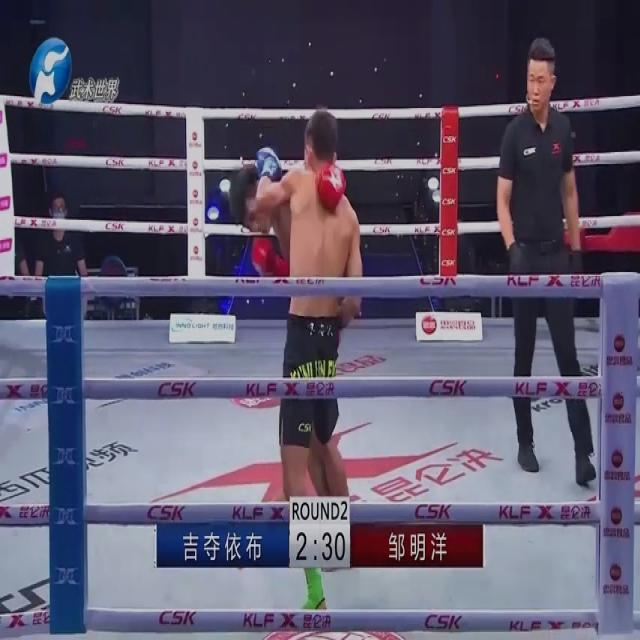fight: (226, 107, 365, 620)
non-fight: (492, 27, 600, 490)
